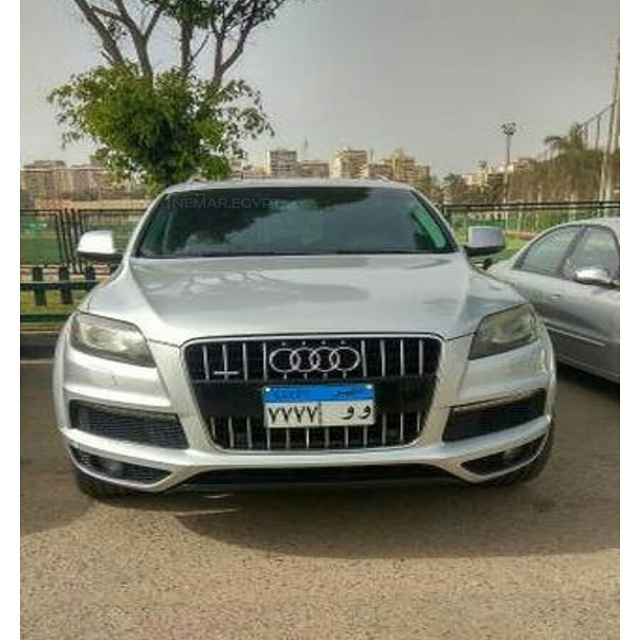License Plate: (258, 382, 382, 430)
